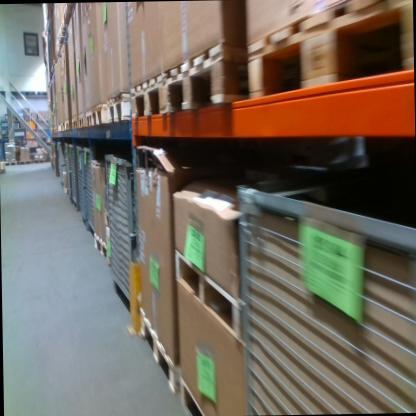pallet: (246, 0, 360, 98), (174, 247, 243, 343), (164, 40, 246, 114), (137, 305, 180, 396), (130, 70, 167, 127), (179, 372, 209, 416), (106, 91, 131, 129), (92, 230, 109, 259), (92, 102, 107, 126), (85, 105, 94, 126), (71, 113, 79, 133), (78, 113, 87, 130), (65, 118, 71, 130), (33, 158, 45, 163), (18, 160, 31, 164), (5, 161, 17, 165)
stillage: (235, 150, 416, 415), (105, 151, 135, 310), (82, 142, 100, 239), (74, 141, 88, 228), (67, 141, 79, 210), (62, 140, 73, 202), (56, 139, 65, 191)
